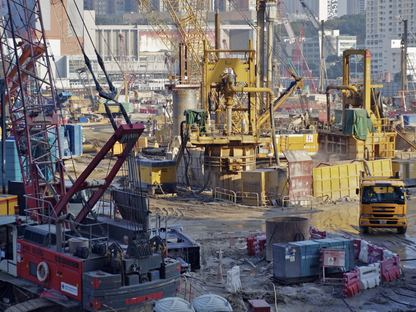truck: (359, 180, 413, 241)
